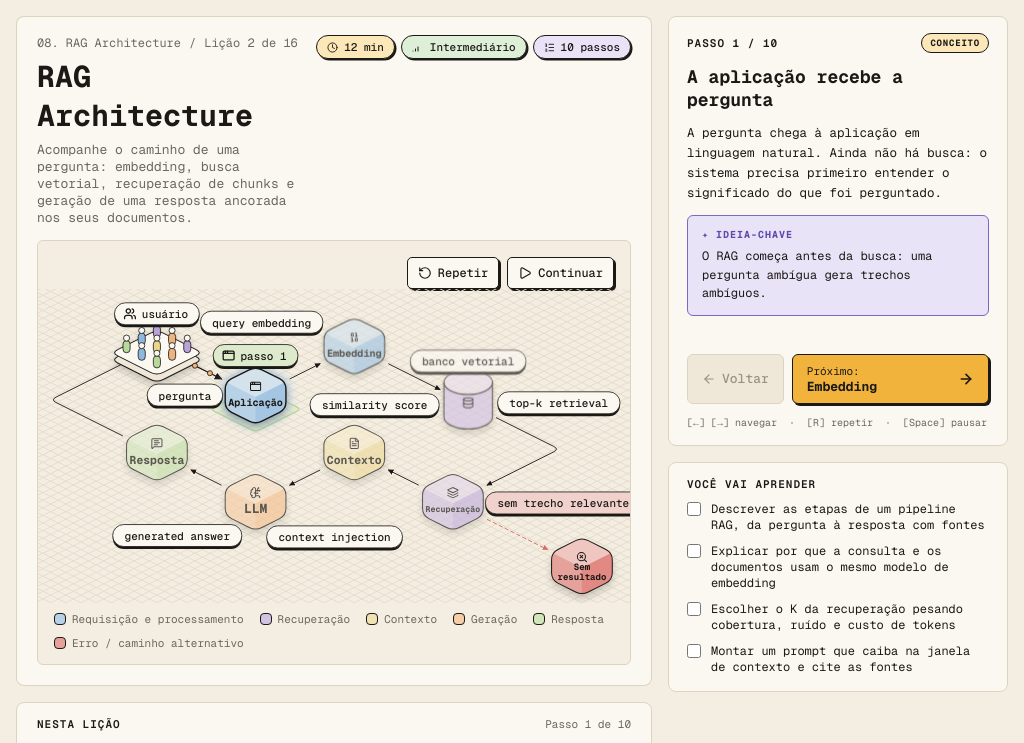
Test: LessonPage (LES-01.1, PRG-01.1, NAV-01.3) › arrastar sobre a cena avança e volta um passo (RSP-01.4)
Step 1. Press the mouse on the element named "A pergunta do usuário passa pela aplicação, pelo modelo de e" → {"x": 334, "y": 476}, box [38,289,630,664]
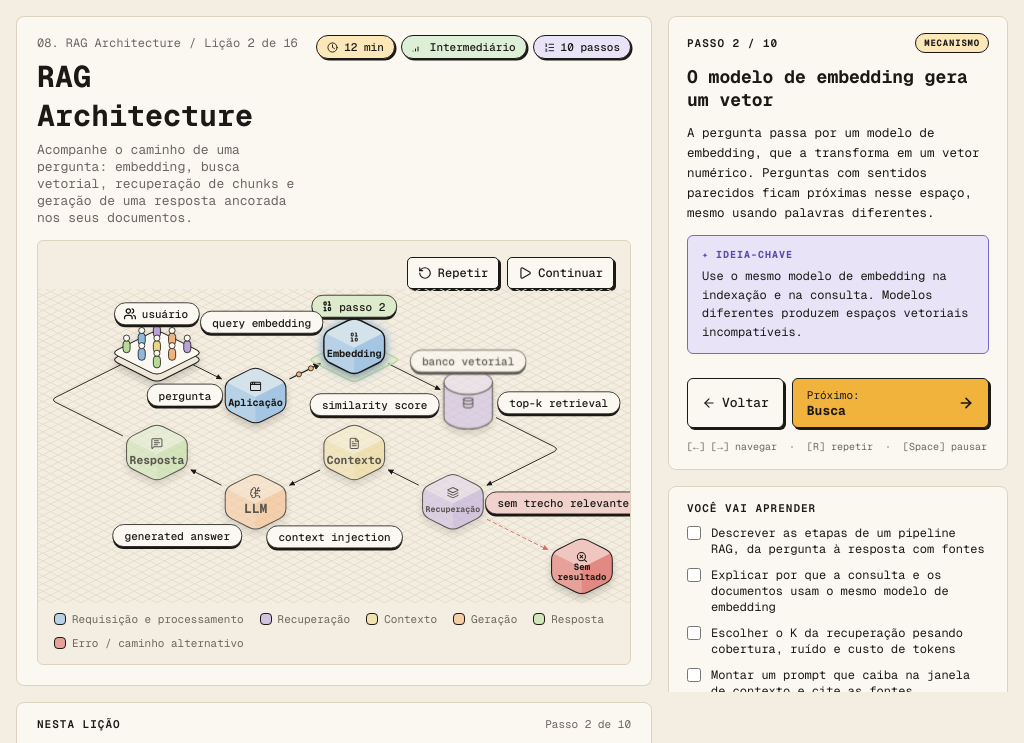
Now the text "Passo 2 / 10" is shown, box [687,36,778,50]
Step 2. Press the mouse on the element named "A pergunta do usuário passa pela aplicação, pelo modelo de e" → {"x": 334, "y": 476}, box [38,289,630,664]
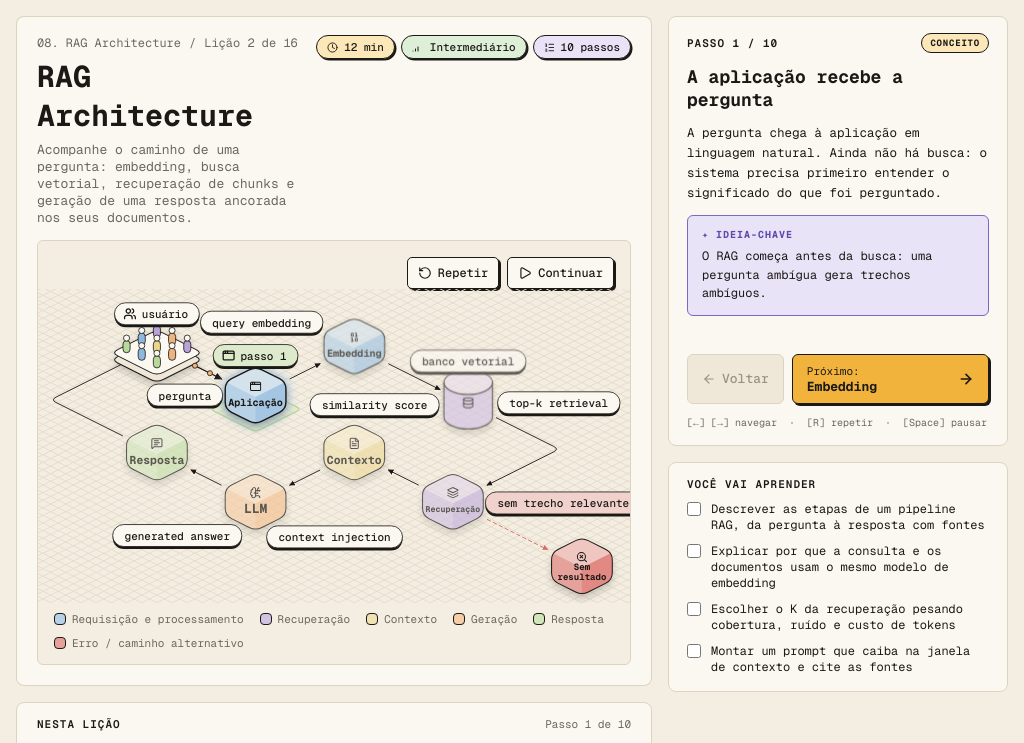
Now the text "Passo 1 / 10" is shown, box [687,36,778,50]
